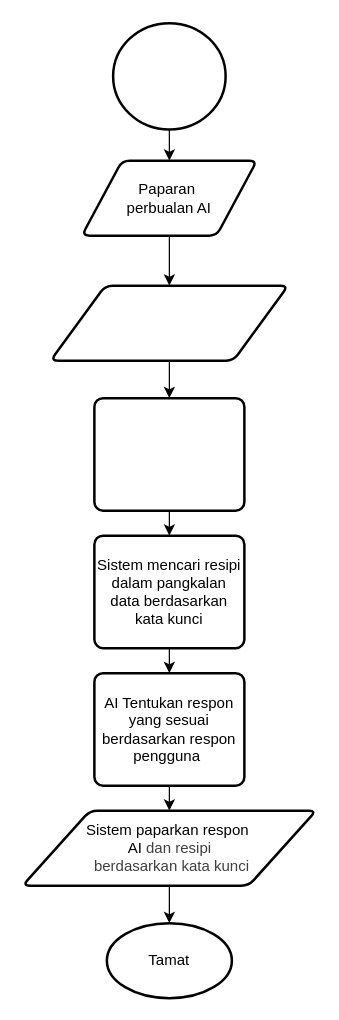
Some shapes in this 339 by 1020 pixel diagram are drawn without their labels. Each missing label, with the box of its shape:
AI Kenalpasti kata kunci releven berdasaarkan penyataan: (92, 396, 245, 511)
AI Resipi: (111, 21, 226, 130)
Pengguna masukan pertanyaan atau kehendak pemakanan: (49, 284, 289, 361)
